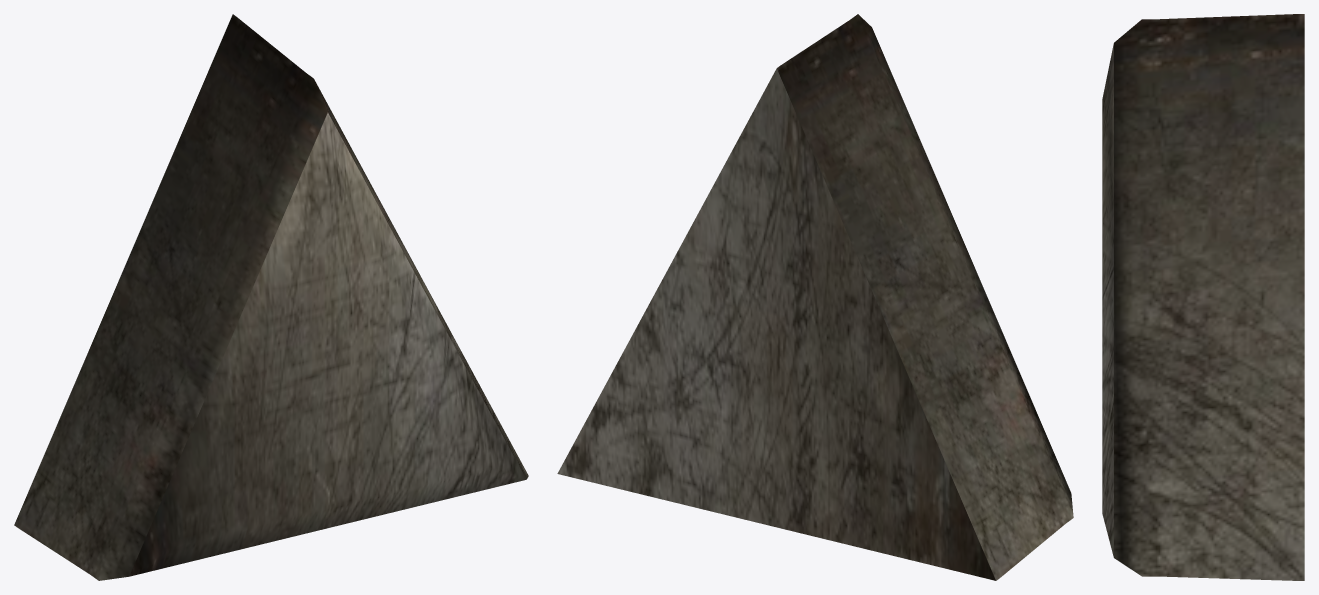
The model's file is boton_arriba_abajo.fbx.
3 views of the same model, side by side, from view 1: azimuth 30°, elevation 25°; view 2: azimuth 150°, elevation 25°; view 3: azimuth 270°, elevation 25° (orthographic).
Parts seen in each view (by area): view 1: boton_up_down; view 2: boton_up_down; view 3: boton_up_down.
Boxes of the visible parts, left/top/right/bottom form: boton_up_down: left=14, top=14, right=528, bottom=580; boton_up_down: left=557, top=14, right=1073, bottom=580; boton_up_down: left=1102, top=14, right=1304, bottom=580.
Bounding box in the file's own units: 20.35 × 20.35 × 8.12.
